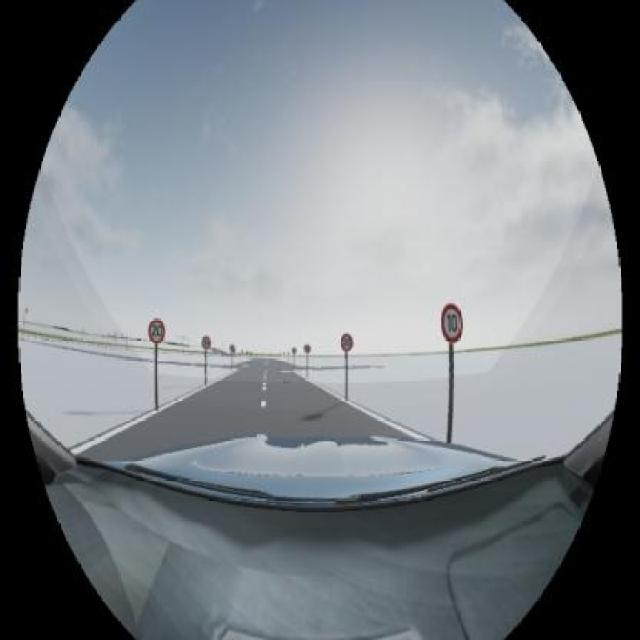forb_speed_over_10: (440, 303, 463, 343)
forb_speed_over_20: (149, 319, 166, 343), (340, 333, 352, 352)
